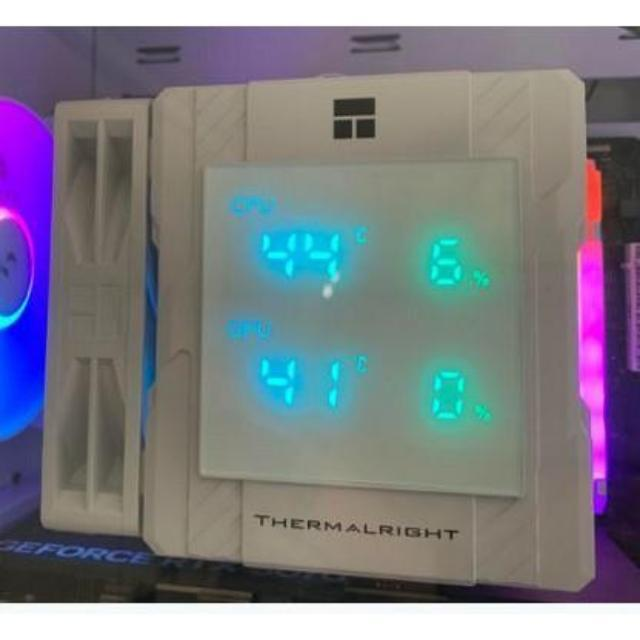CPU_Fan: (43, 74, 597, 598)
